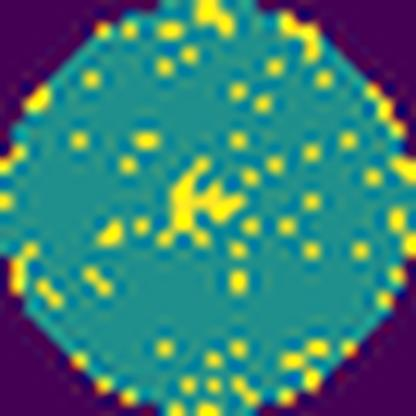Center: (155, 157, 246, 251)
